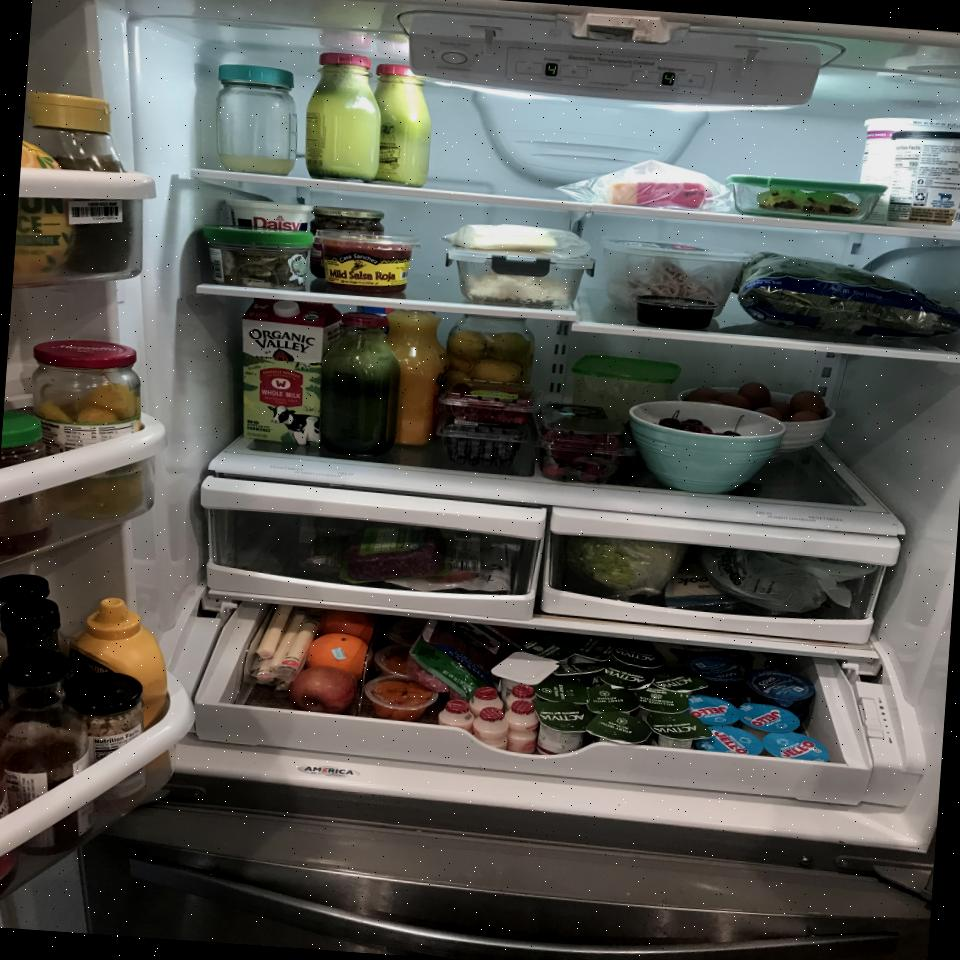Huevos: (687, 376, 832, 428)
Leche: (236, 298, 344, 446)
Manzana: (288, 663, 360, 714)
Queso: (608, 177, 715, 212)
